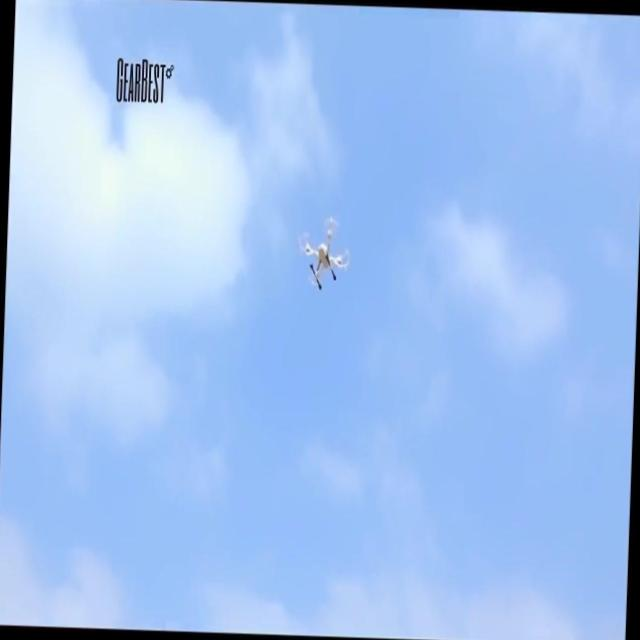drone: (294, 210, 353, 292)
